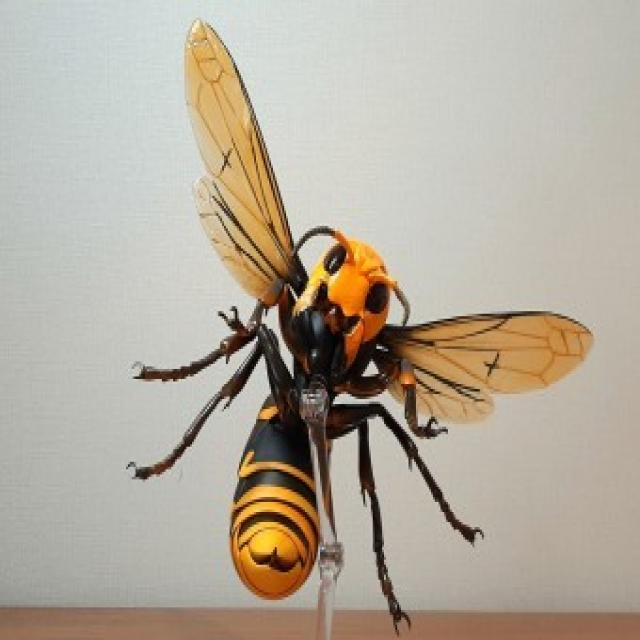Wasp: (130, 16, 593, 640)
